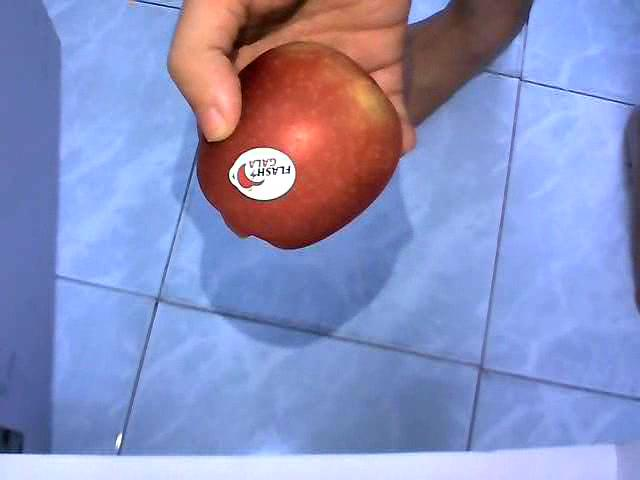apple: (196, 40, 403, 251)
